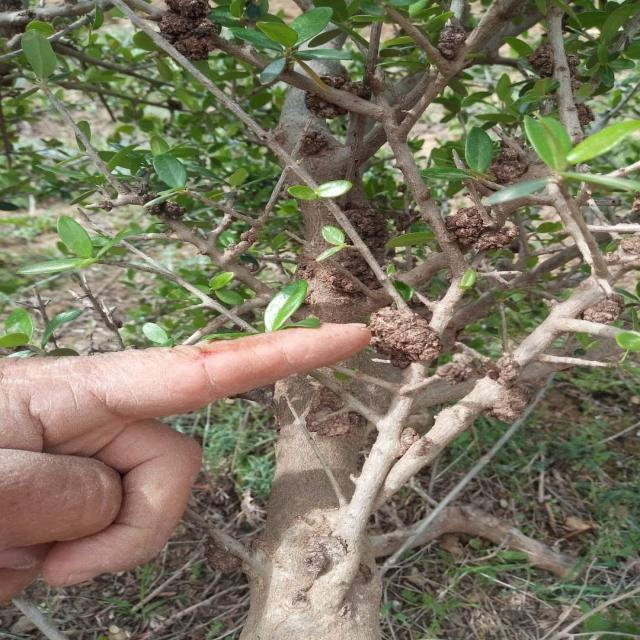Tuberculosis: (368, 307, 441, 369), (158, 0, 218, 60), (446, 205, 518, 251), (306, 387, 362, 442), (340, 200, 389, 257), (489, 381, 536, 424), (487, 141, 528, 185), (581, 294, 624, 325), (320, 75, 372, 99), (305, 91, 347, 120), (436, 354, 474, 384), (438, 24, 466, 60), (146, 198, 186, 222), (299, 130, 332, 158), (528, 42, 553, 78), (395, 426, 420, 462), (567, 53, 584, 83)
